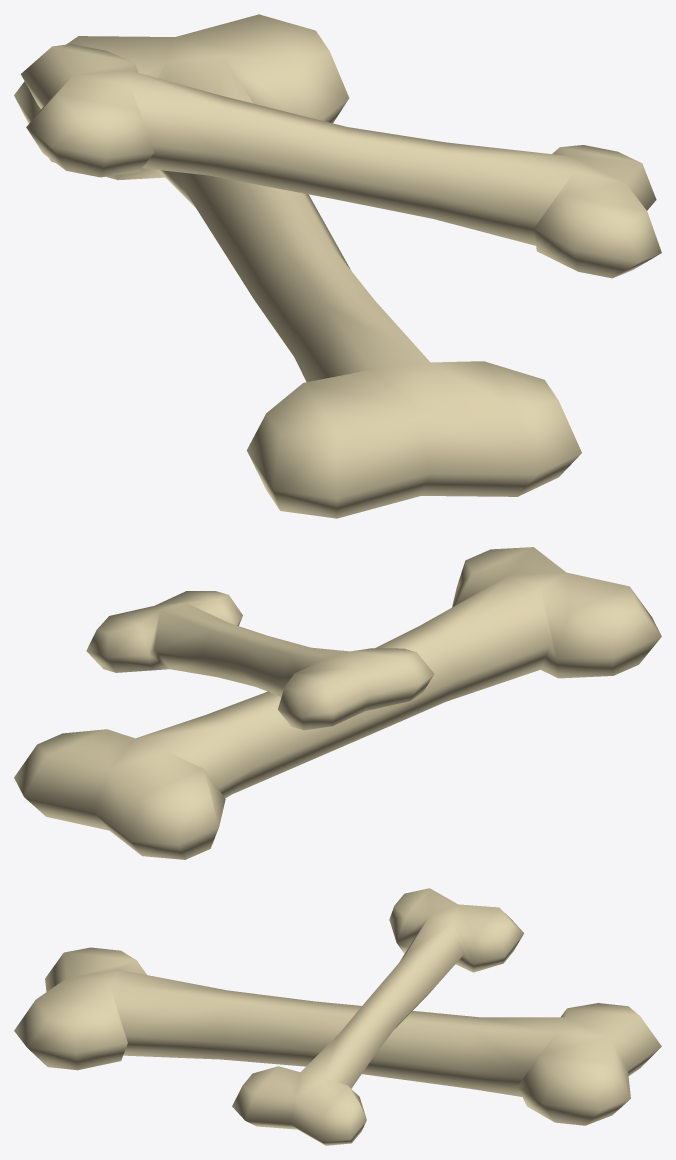
The model's file is P_bone_02.fbx.
3 views of the same model, one above another, from view 1: azimuth 30°, elevation 25°; view 2: azimuth 150°, elevation 25°; view 3: azimuth 270°, elevation 25° (orthographic). The views are drawn at different scales.
Parts seen in each view (by area): view 1: lod1; view 2: lod1; view 3: lod1.
Part boxes in pixels (x1,y1,x2,y2): lod1: (14,14,661,518); lod1: (14,547,661,859); lod1: (14,888,661,1145).
Size of what is drawn, in the model's own units: 36.49 by 13.02 by 57.23.
1 material, 1 textured.
